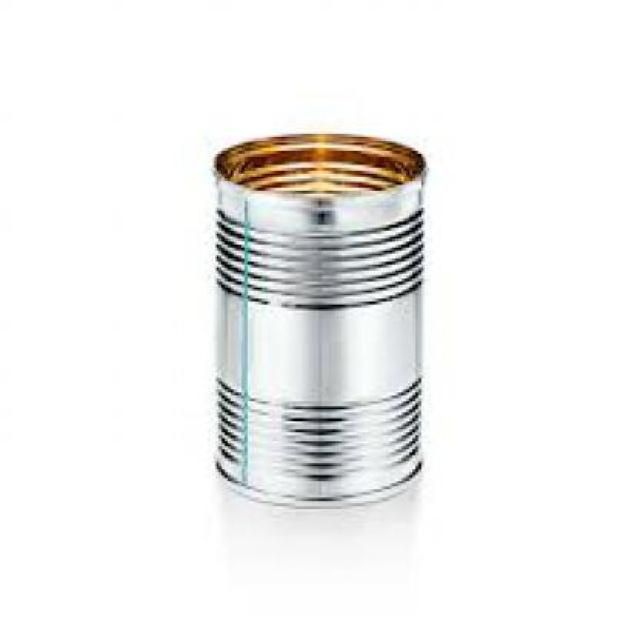METAL: (213, 131, 424, 503)
